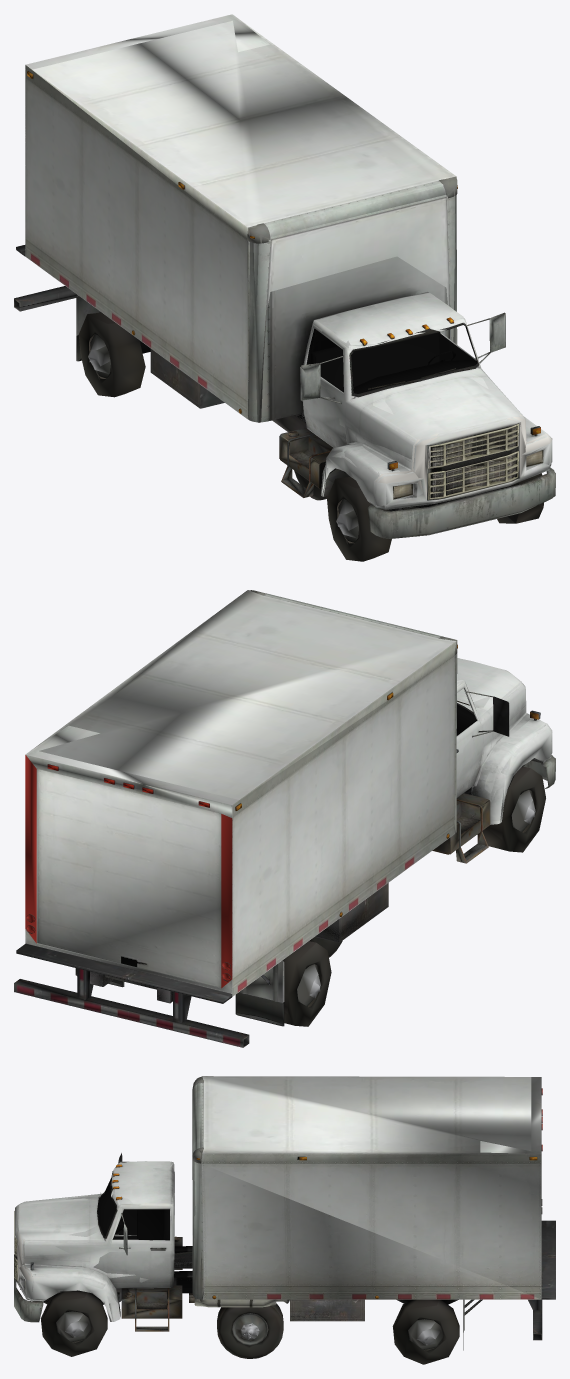
File: truck4.glb
3 views of the same model, one above another, from view 1: azimuth 30°, elevation 25°; view 2: azimuth 150°, elevation 25°; view 3: azimuth 270°, elevation 25° (orthographic). The views are drawn at different scales.
Visible parts, largest first — view 1: body2, body0; view 2: body2, body0; view 3: body2, body0, wheel0.
Boxes of the visible parts, x1=… form: body2: x1=19, y1=19, x2=555, y2=561; body0: x1=14, y1=14, x2=554, y2=538; body2: x1=32, y1=590, x2=555, y2=1041; body0: x1=14, y1=590, x2=554, y2=1047; body2: x1=14, y1=1076, x2=541, y2=1364; body0: x1=14, y1=1076, x2=555, y2=1350; wheel0: x1=217, y1=1303, x2=283, y2=1358.
Bounding box in the file's own units: 2.87 × 3.72 × 7.6.
4 materials, 2 textured.
